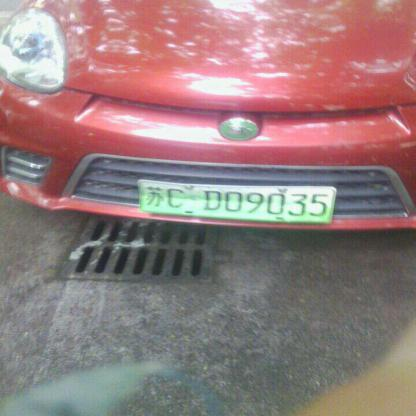lp: (137, 179, 334, 224)
